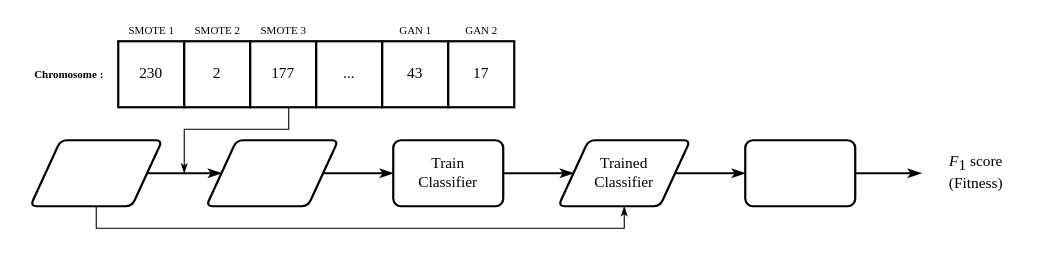
Some shapes in this 1049 by 256 pixel diagram are drawn without their labels. The shapes that lost their labels are listed below. From the top down, each one's box as (x1, y1, x2, y2) in pixels, then its label:
(29, 139, 163, 207): Training Dataset
(205, 139, 339, 207): Sampled Dataset
(744, 139, 856, 207): Evaluate Classifier
